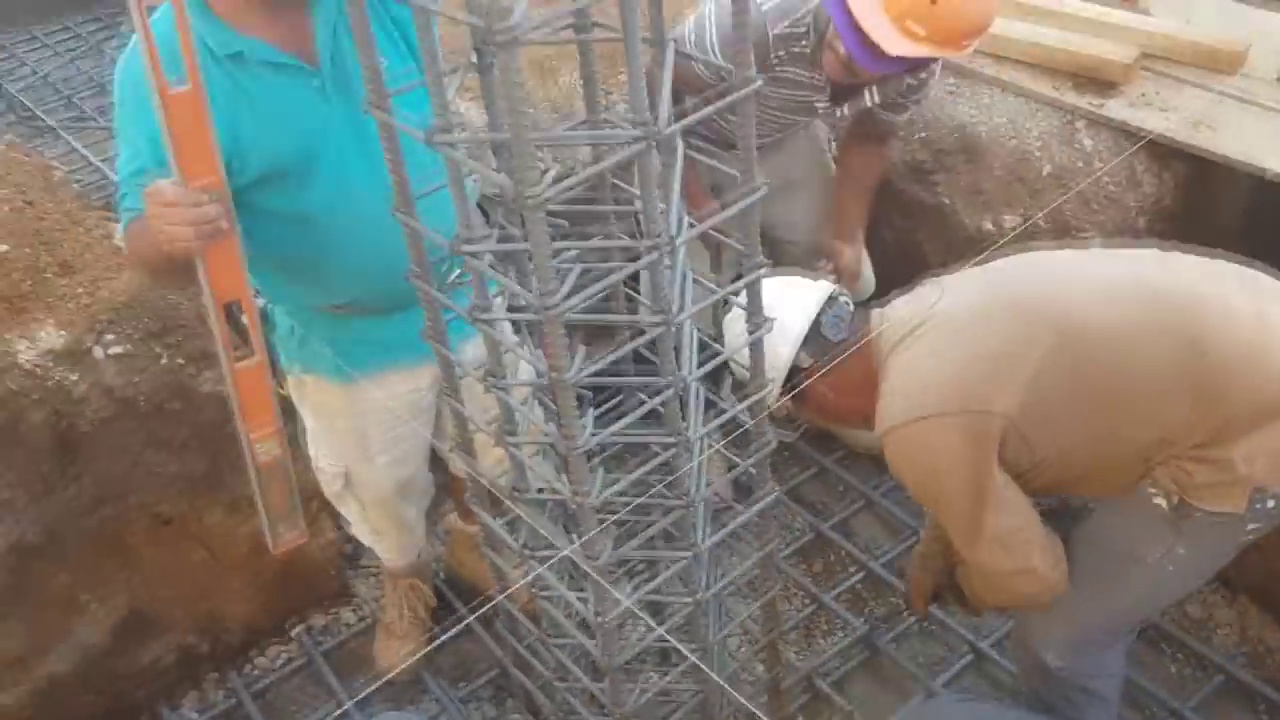helmet: (723, 268, 829, 401), (852, 4, 996, 69)
helmet-on: (722, 255, 892, 435), (795, 5, 993, 110)
person: (116, 0, 544, 674), (714, 244, 1280, 720), (657, 4, 997, 508)
